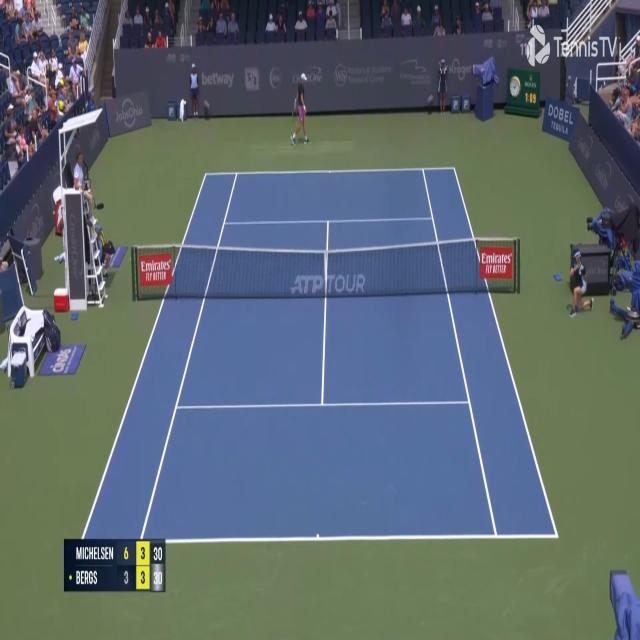tennis-player: (290, 70, 310, 147)
